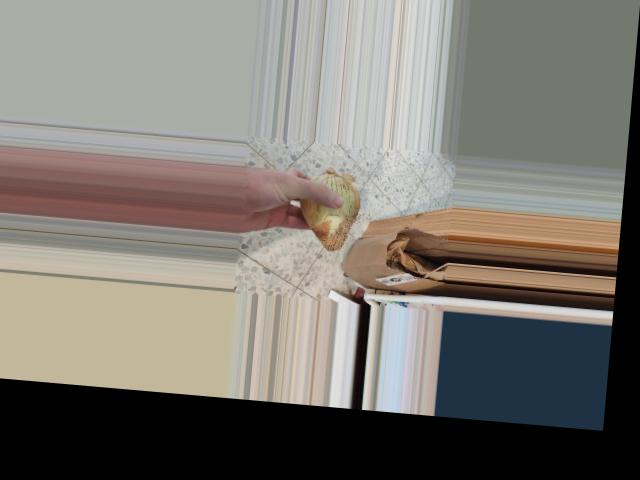onion: (289, 168, 373, 256)
